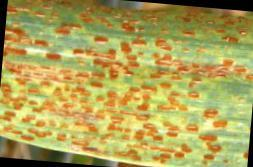Wheat: (9, 13, 253, 119), (4, 121, 233, 167)
